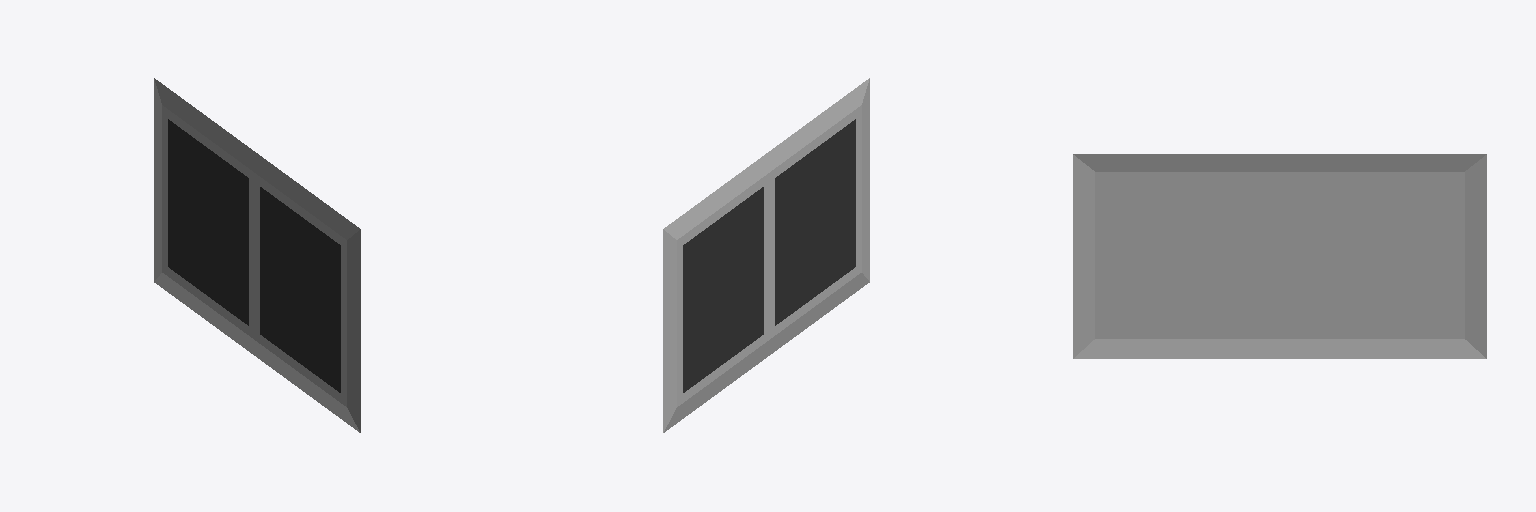
File: wall_panels.obj
3 views of the same model, side by side, from view 1: azimuth 30°, elevation 25°; view 2: azimuth 150°, elevation 25°; view 3: azimuth 270°, elevation 25° (orthographic).
Visible parts, largest first — view 1: Plane.001, Plane; view 2: Plane.001, Plane; view 3: Plane.
Part boxes in pixels (x1,y1,x2,y2): Plane.001: (168,119,340,392); Plane: (154,78,360,432); Plane.001: (683,119,855,392); Plane: (663,78,869,432); Plane: (1073,154,1486,358).
Bounding box in the file's own units: 0.022 × 1.51 × 2.76.